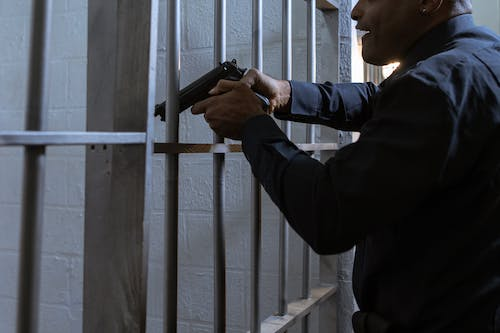gun: (153, 56, 250, 123)
